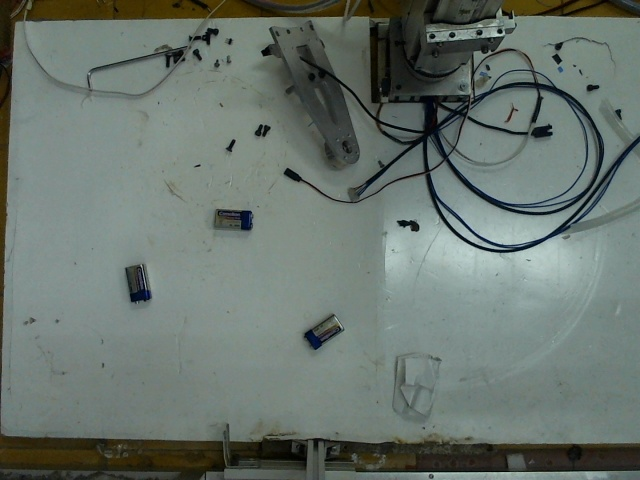battery: (300, 309, 345, 348), (120, 263, 155, 305), (211, 201, 253, 232)
